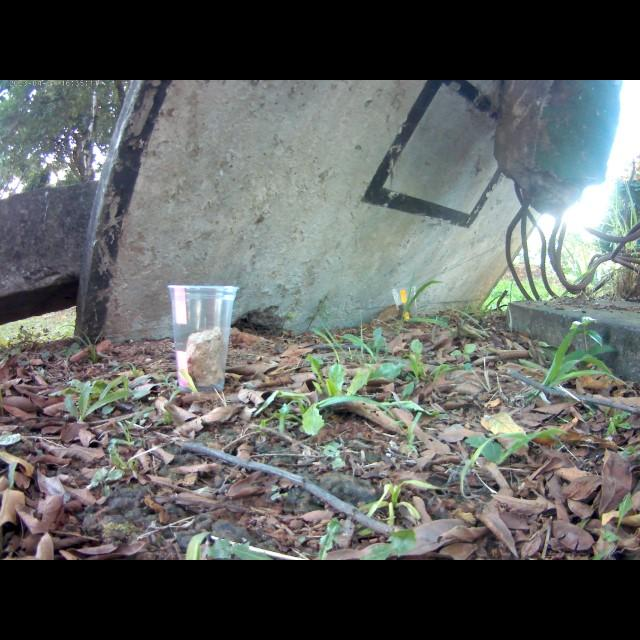detrito: (61, 81, 631, 346), (504, 254, 640, 393), (3, 176, 94, 329)
